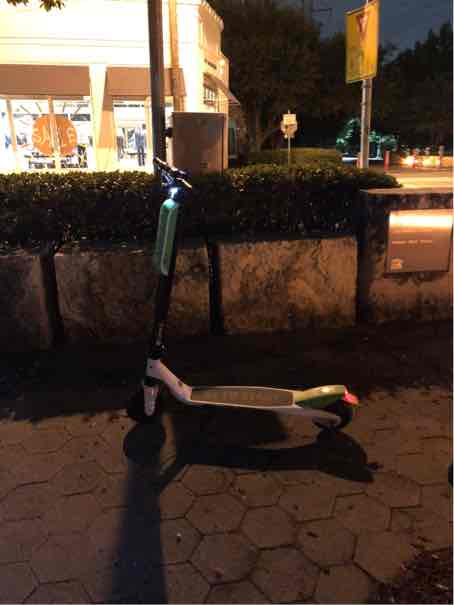scooter: (113, 152, 362, 467)
